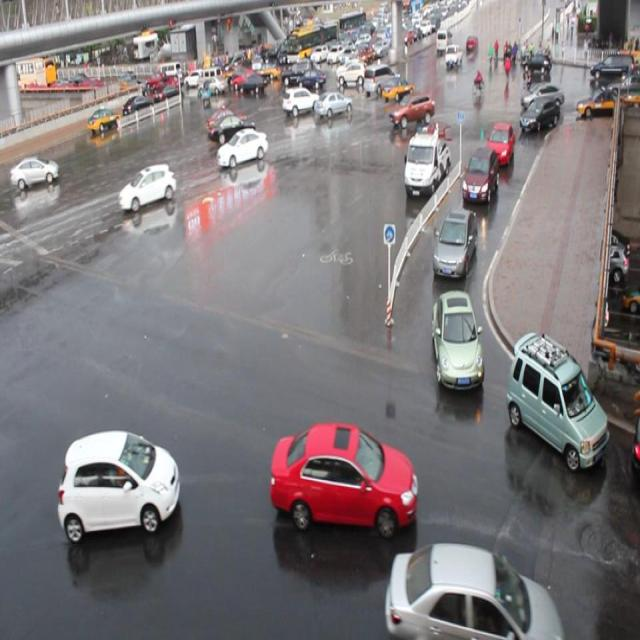bus: (402, 133, 450, 199)
car: (383, 540, 562, 640), (269, 419, 417, 533), (57, 427, 181, 541), (506, 331, 608, 468), (431, 288, 483, 391), (432, 206, 476, 276), (117, 164, 177, 208), (215, 125, 268, 169), (461, 145, 497, 206), (11, 155, 59, 190), (389, 90, 434, 125), (517, 96, 559, 133), (209, 114, 254, 143), (486, 121, 514, 166), (520, 80, 562, 110), (314, 91, 353, 118), (282, 85, 319, 113), (206, 107, 246, 130)
